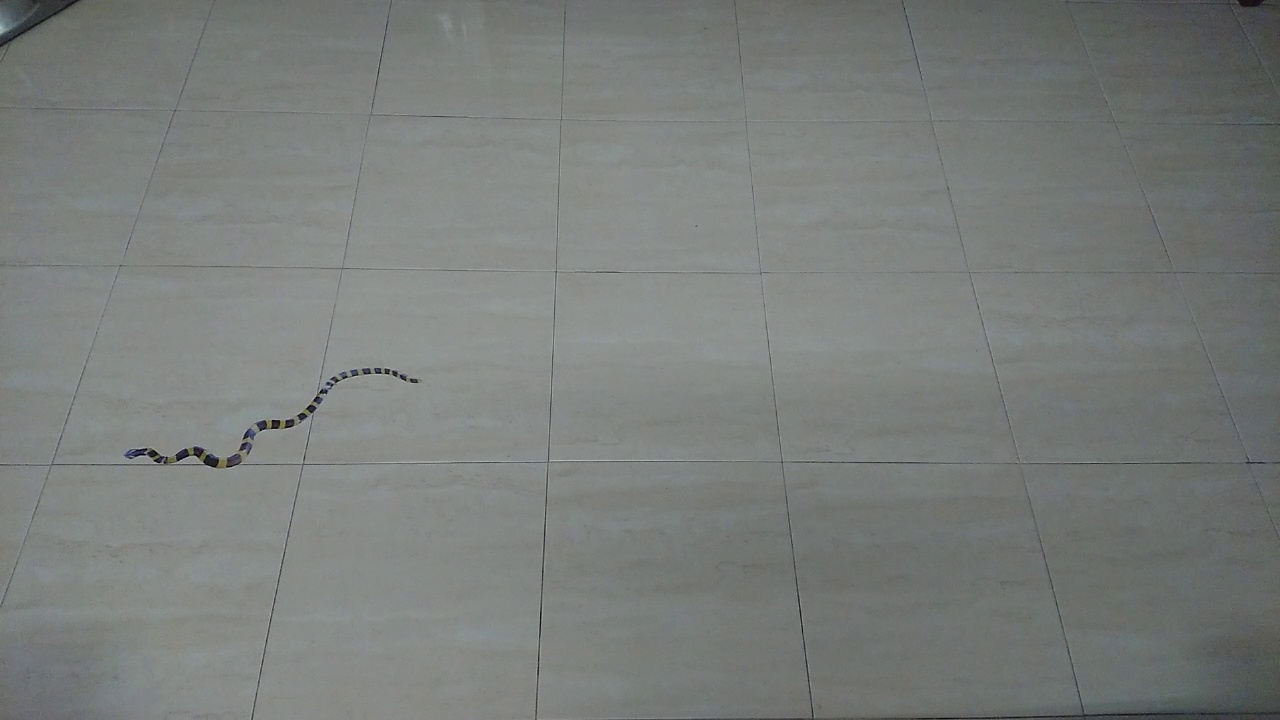snake: (113, 354, 435, 488)
